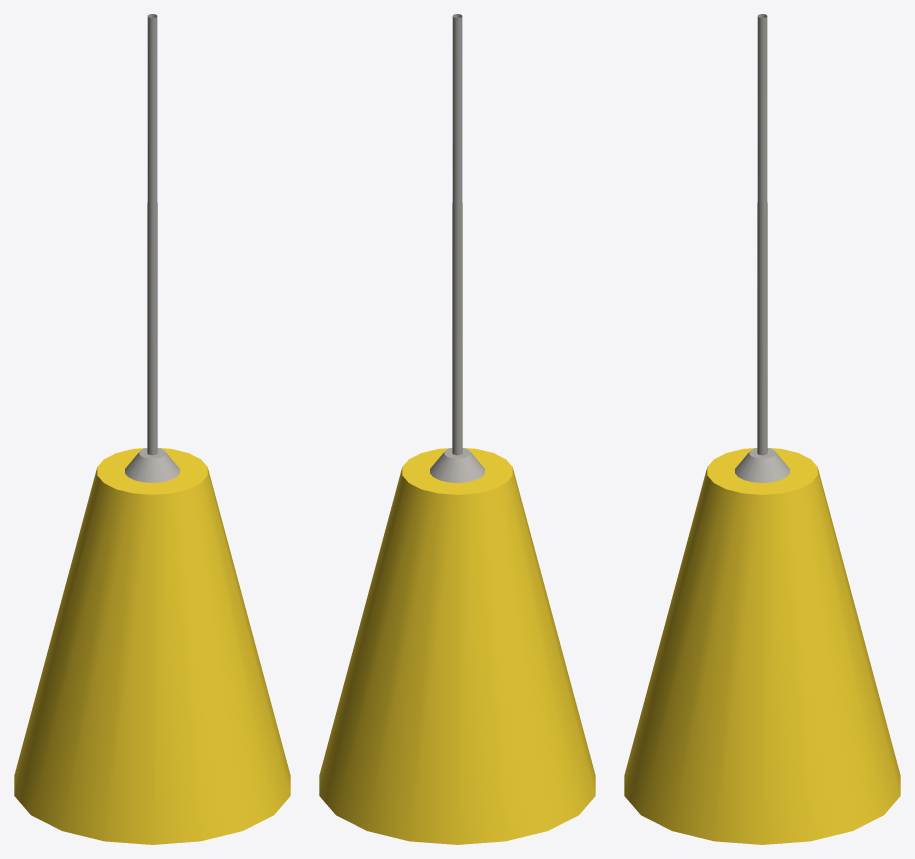
Rendered from Lamp.FBX.
The picture shows the model from 3 angles, left to right: view 1: azimuth 30°, elevation 25°; view 2: azimuth 150°, elevation 25°; view 3: azimuth 270°, elevation 25°; orthographic projection.
Visible parts, largest first — view 1: Lamp; view 2: Lamp; view 3: Lamp.
Part boxes in pixels (x1,y1,x2,y2): Lamp: (14,14,290,844); Lamp: (319,14,595,844); Lamp: (624,14,900,844).
Size of the model in its own units: 28.28 by 85.64 by 27.85.
